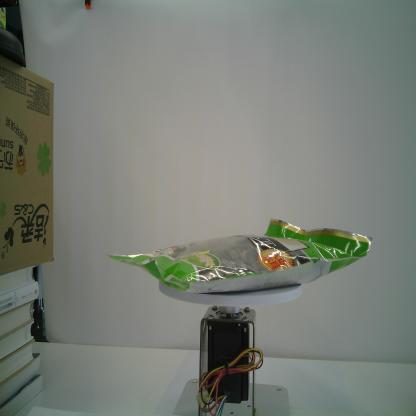Dried Food: (105, 216, 374, 297)
